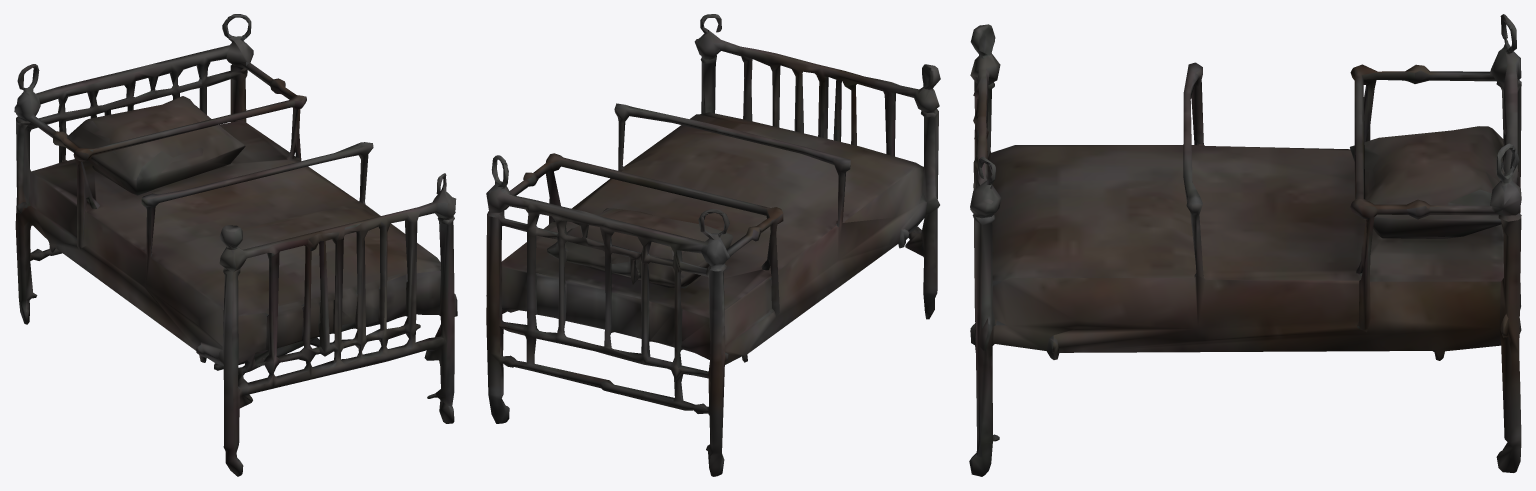
Rendered from ornate-iron-asylum-bed-v001.glb.
The picture shows the model from 3 angles, left to right: view 1: azimuth 30°, elevation 25°; view 2: azimuth 150°, elevation 25°; view 3: azimuth 270°, elevation 25°; orthographic projection. The views are drawn at different scales.
Visible parts, largest first — view 1: ornate-iron-asylum-bed; view 2: ornate-iron-asylum-bed; view 3: ornate-iron-asylum-bed.
Boxes of the visible parts, bbox=[...] form: ornate-iron-asylum-bed: bbox=[14, 14, 457, 476]; ornate-iron-asylum-bed: bbox=[486, 14, 940, 476]; ornate-iron-asylum-bed: bbox=[969, 14, 1521, 476].
Bounding box in the file's own units: 1.15 × 1.2 × 1.82.
Materials: 1 (1 with a texture image).
